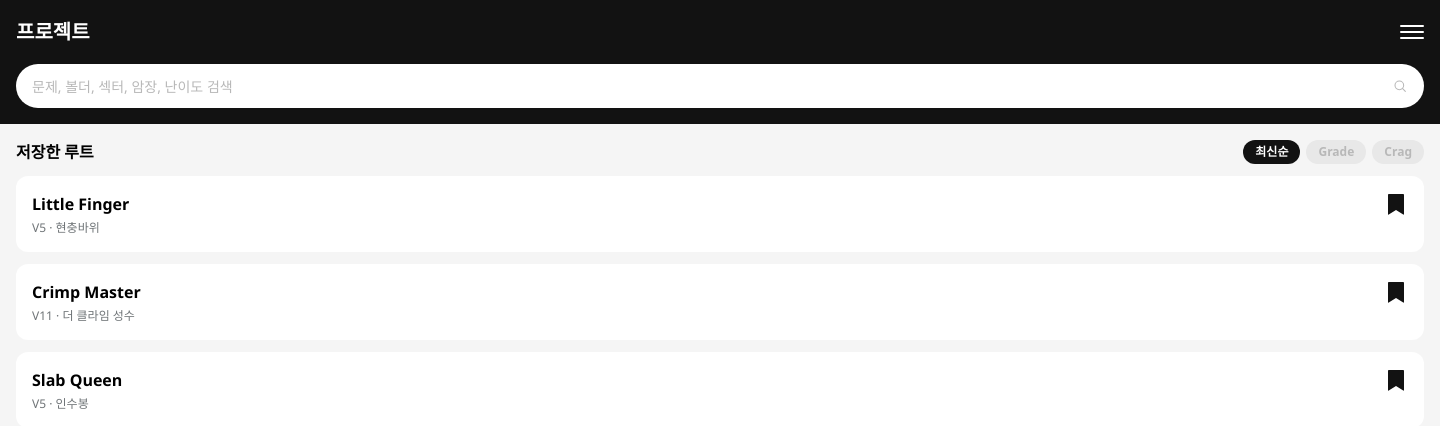
Test: ProjectRoutesView › filters the list by search query and shows an empty message when nothing matches
In the field with placeholder "문제, 볼더, 섹터, 암장, 난이도 검색": (720,86) [16,64,1424,108], type "Little"
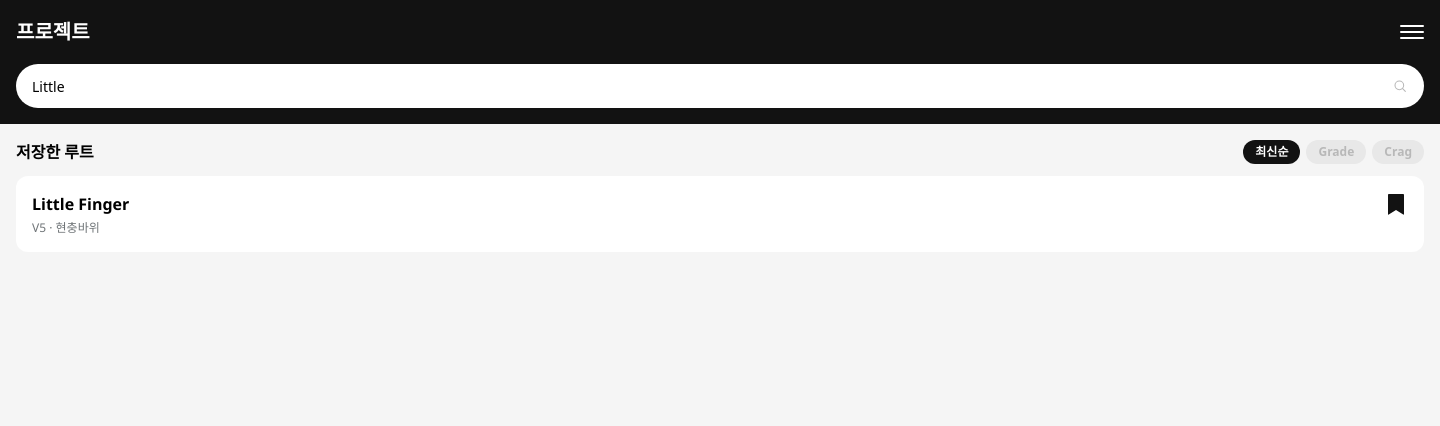
Check: the text "Little Finger" is shown, box [32,192,129,216]
Check: the link "Crimp Master" is gone
Check: the link "Slab Queen" is gone
Replace the text in the field with placeholder "문제, 볼더, 섹터, 암장, 난이도 검색" with "존재하지않는검색어": (720,86) [16,64,1424,108]
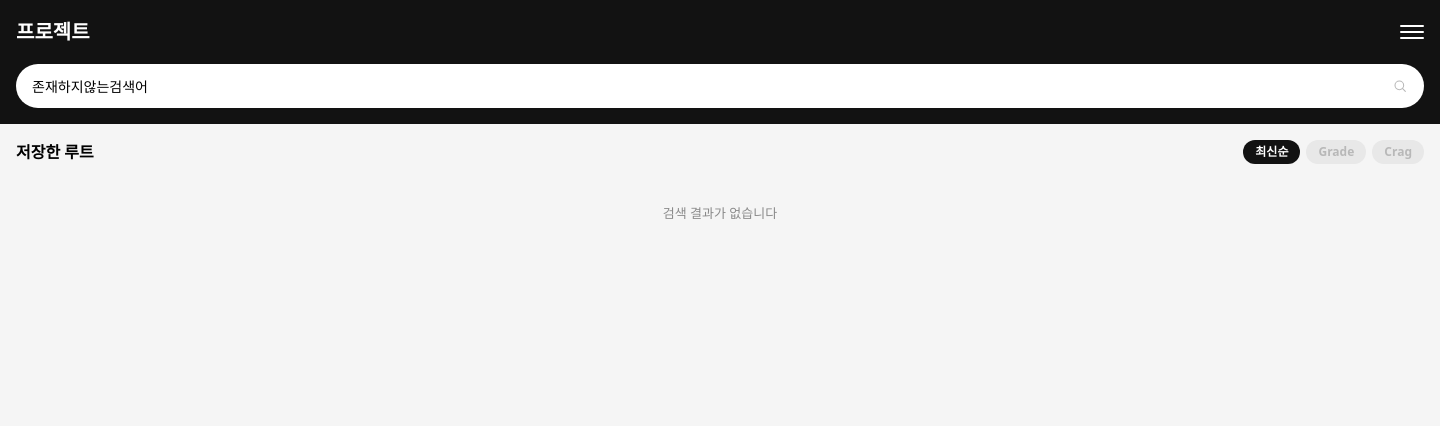
Check: the text "검색 결과가 없습니다" is shown, box [663,204,777,222]
